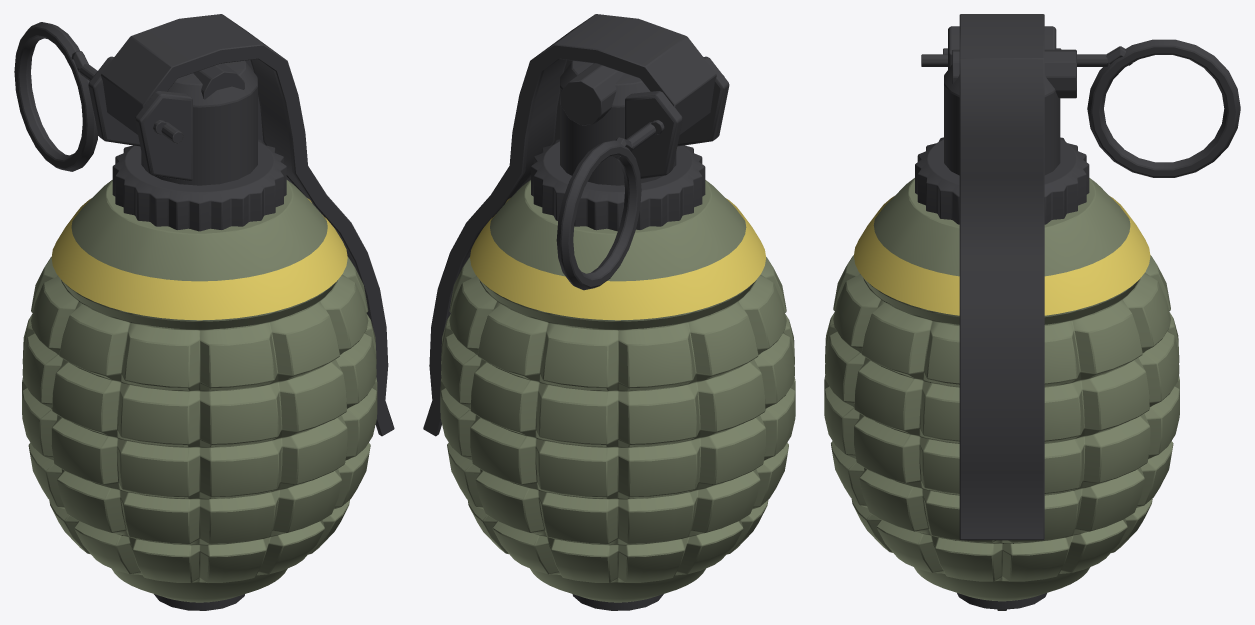
3 renders of one model, left to right at view 1: azimuth 30°, elevation 25°; view 2: azimuth 150°, elevation 25°; view 3: azimuth 270°, elevation 25°, orthographic.
Visible parts, largest first — view 1: Body; view 2: Body; view 3: Body.
Part boxes in pixels (<box>): Body: <box>14,14,394,610</box>; Body: <box>423,14,795,610</box>; Body: <box>824,14,1240,610</box>.
Bounding box in the file's own units: 0.0609 × 0.0999 × 0.0669.
